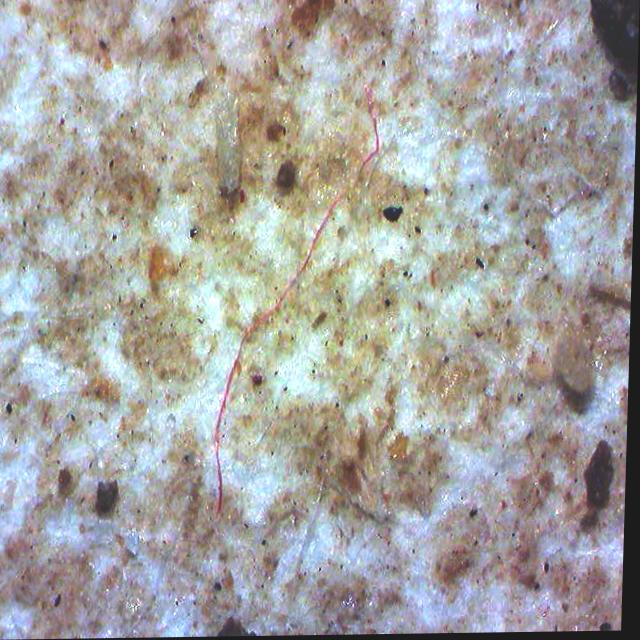microplastic: (175, 75, 405, 517)
